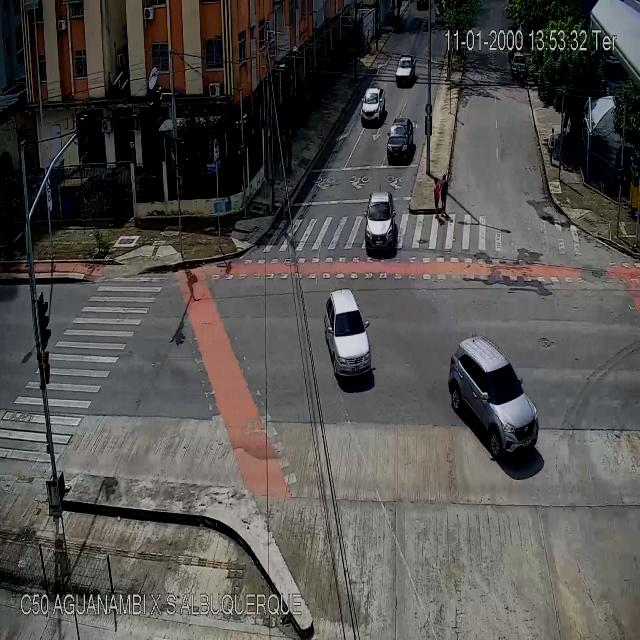Car: (448, 335, 540, 454), (324, 290, 374, 379), (364, 193, 397, 254), (387, 120, 416, 162), (361, 88, 385, 123), (397, 54, 417, 86), (511, 53, 526, 76)
Motorcycle: (517, 62, 522, 82)
